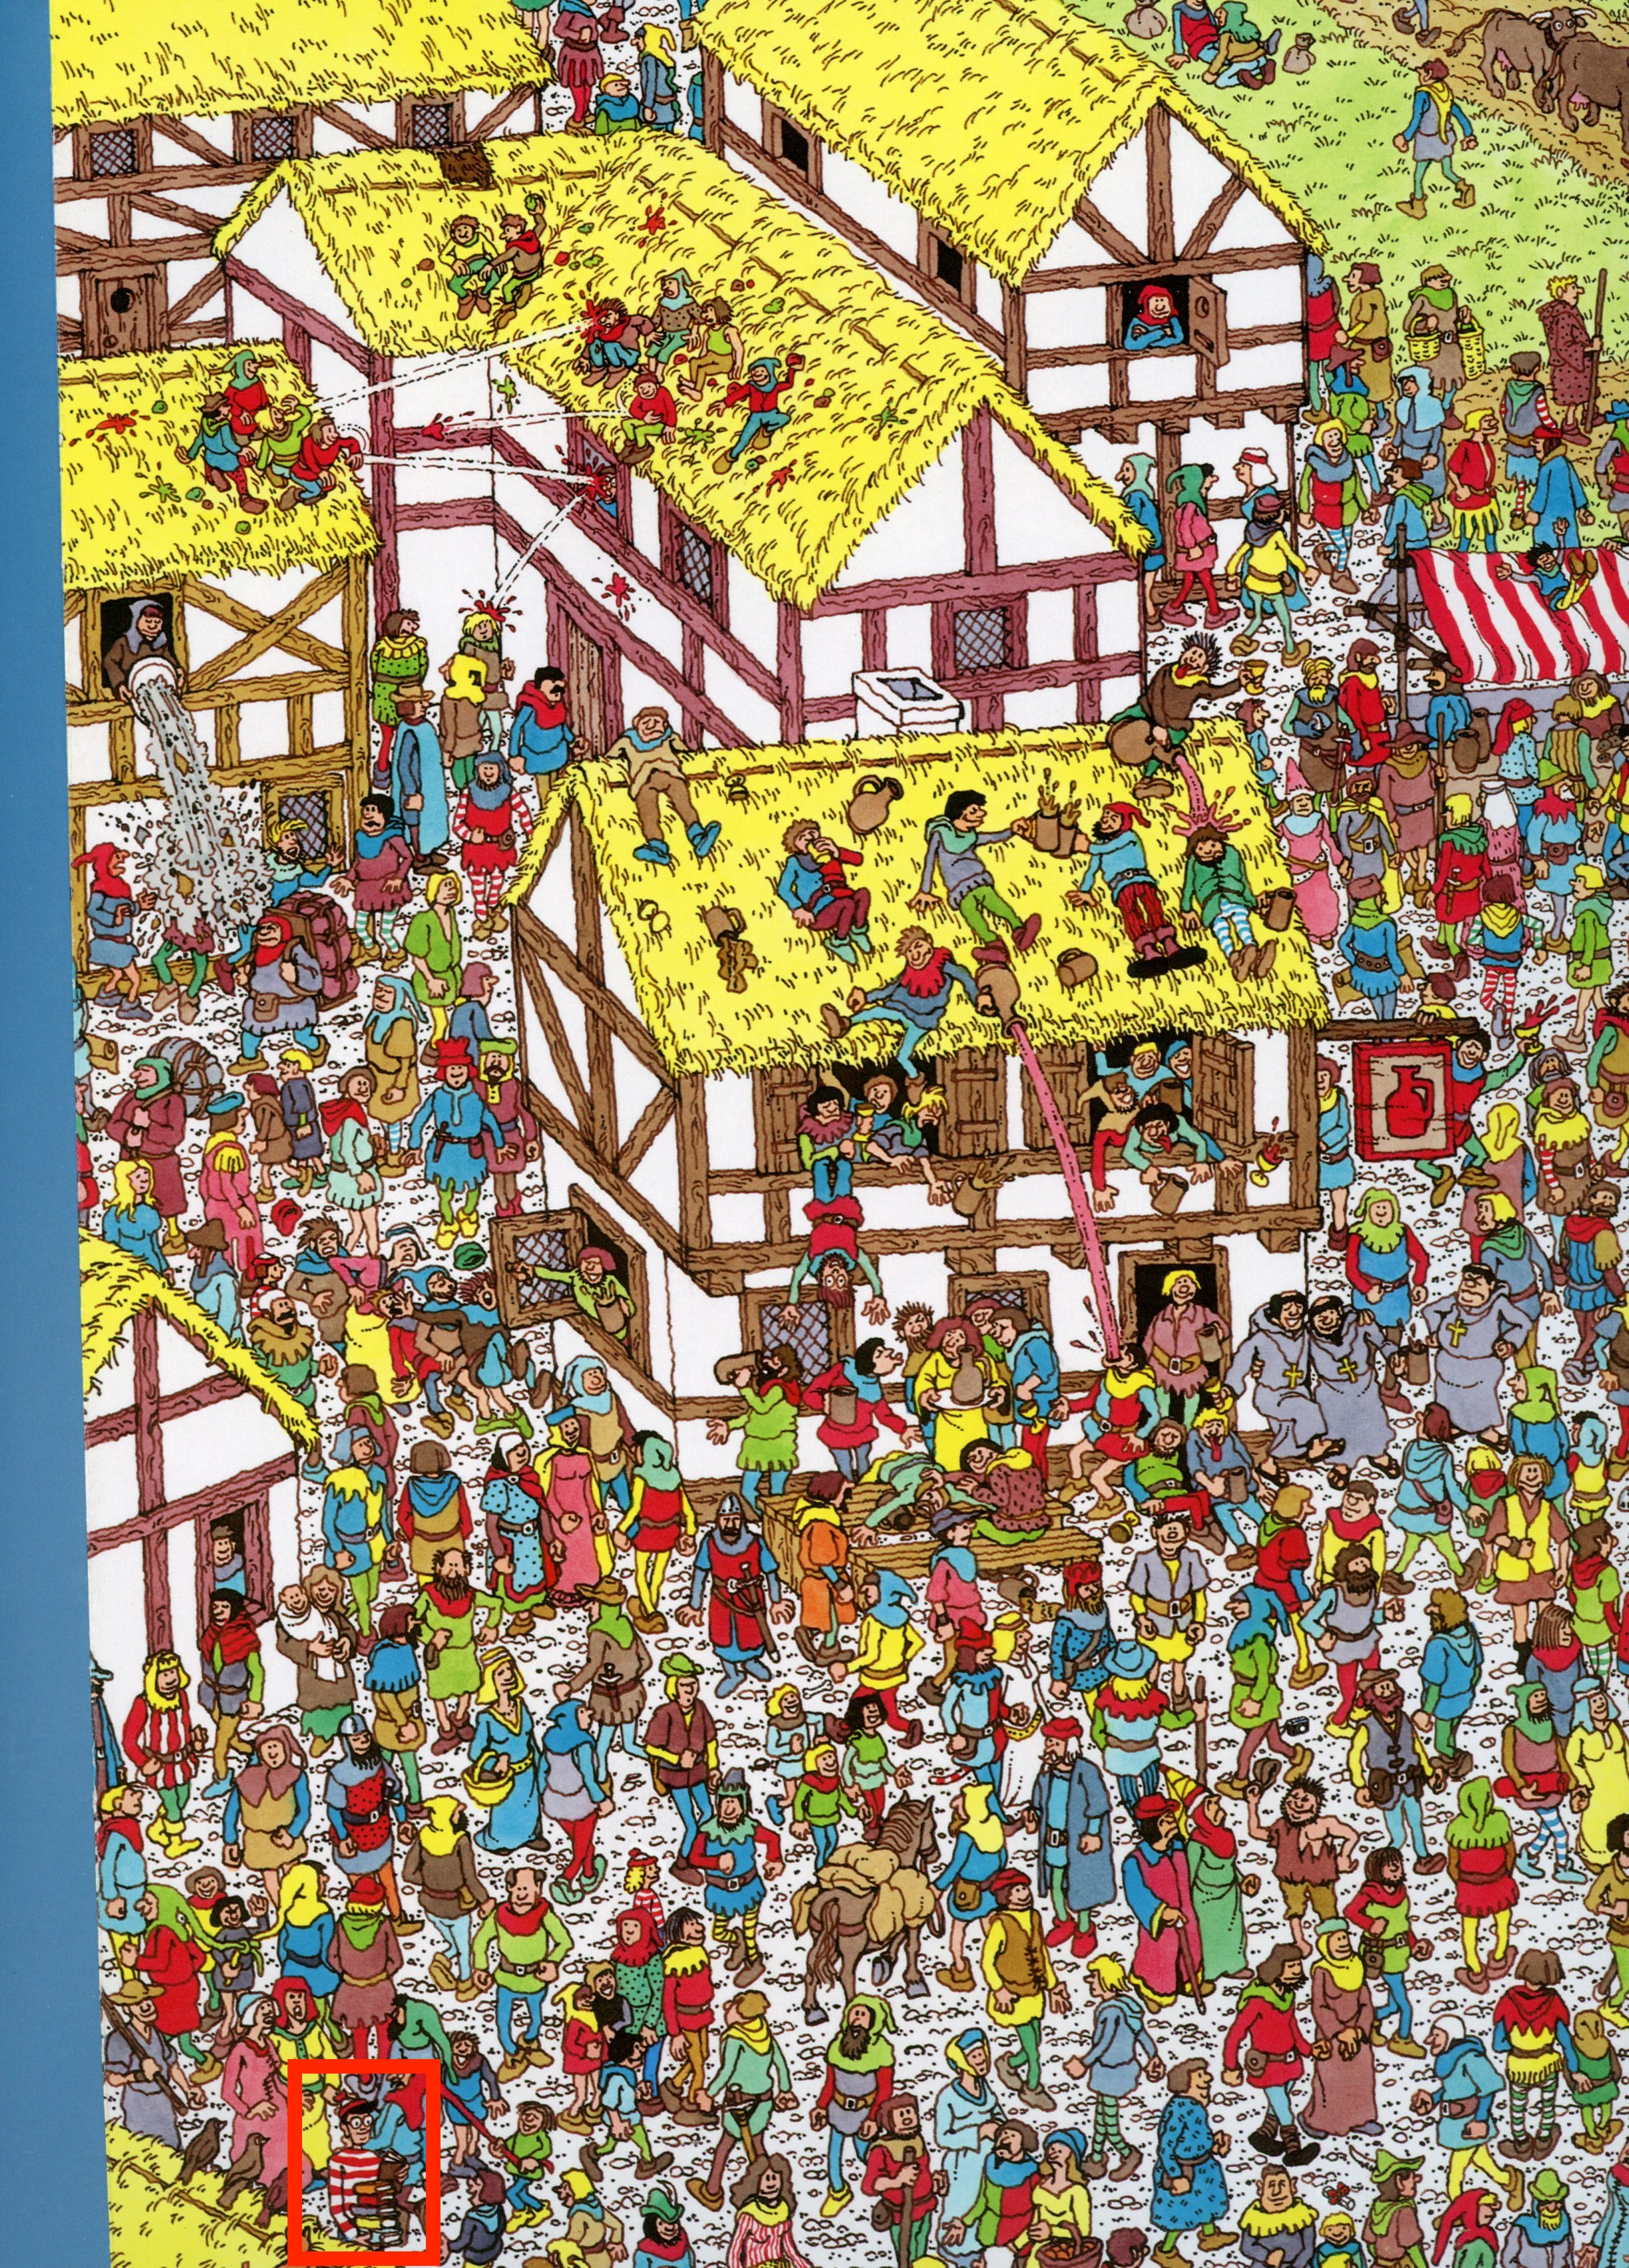waldo: (284, 2065, 458, 2268), (280, 2060, 416, 2259)
